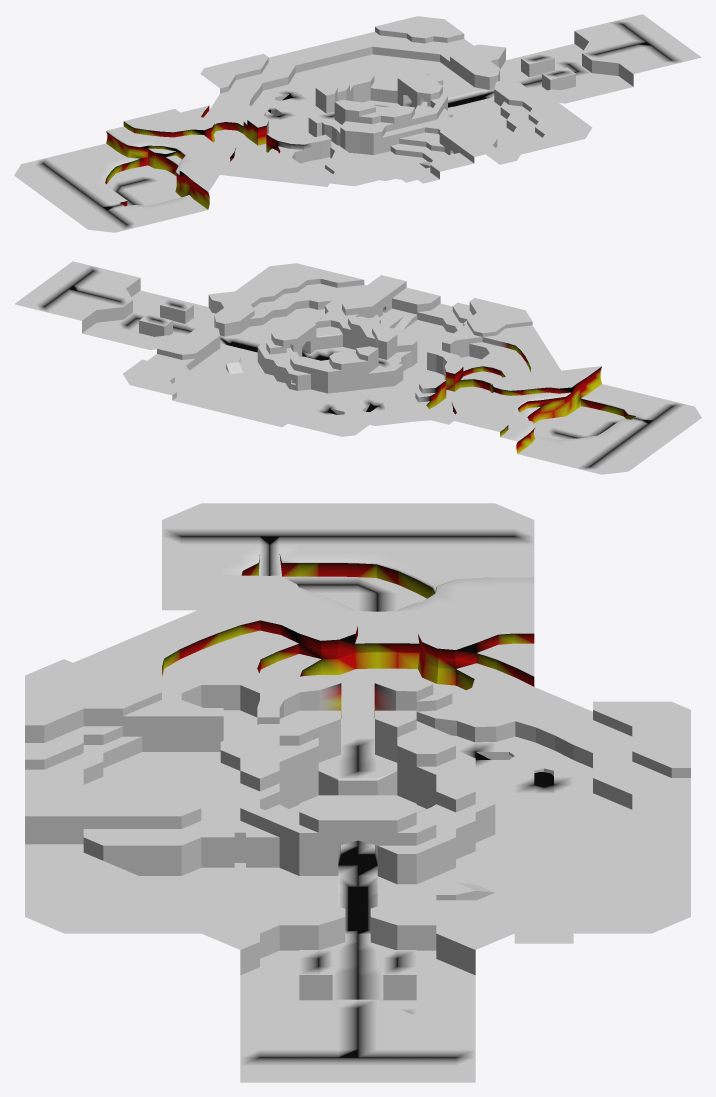
File: level-5.glb
3 views of the same model, one above another, from view 1: azimuth 30°, elevation 25°; view 2: azimuth 150°, elevation 25°; view 3: azimuth 270°, elevation 25° (orthographic). The views are drawn at different scales.
Parts seen in each view (by area): view 1: level-5; view 2: level-5; view 3: level-5.
Part boxes in pixels (x1,y1,x2,y2): level-5: [14, 14, 701, 232]; level-5: [14, 261, 701, 474]; level-5: [25, 503, 690, 1082].
Size of the model in its own units: 256 by 17.5 by 119.
